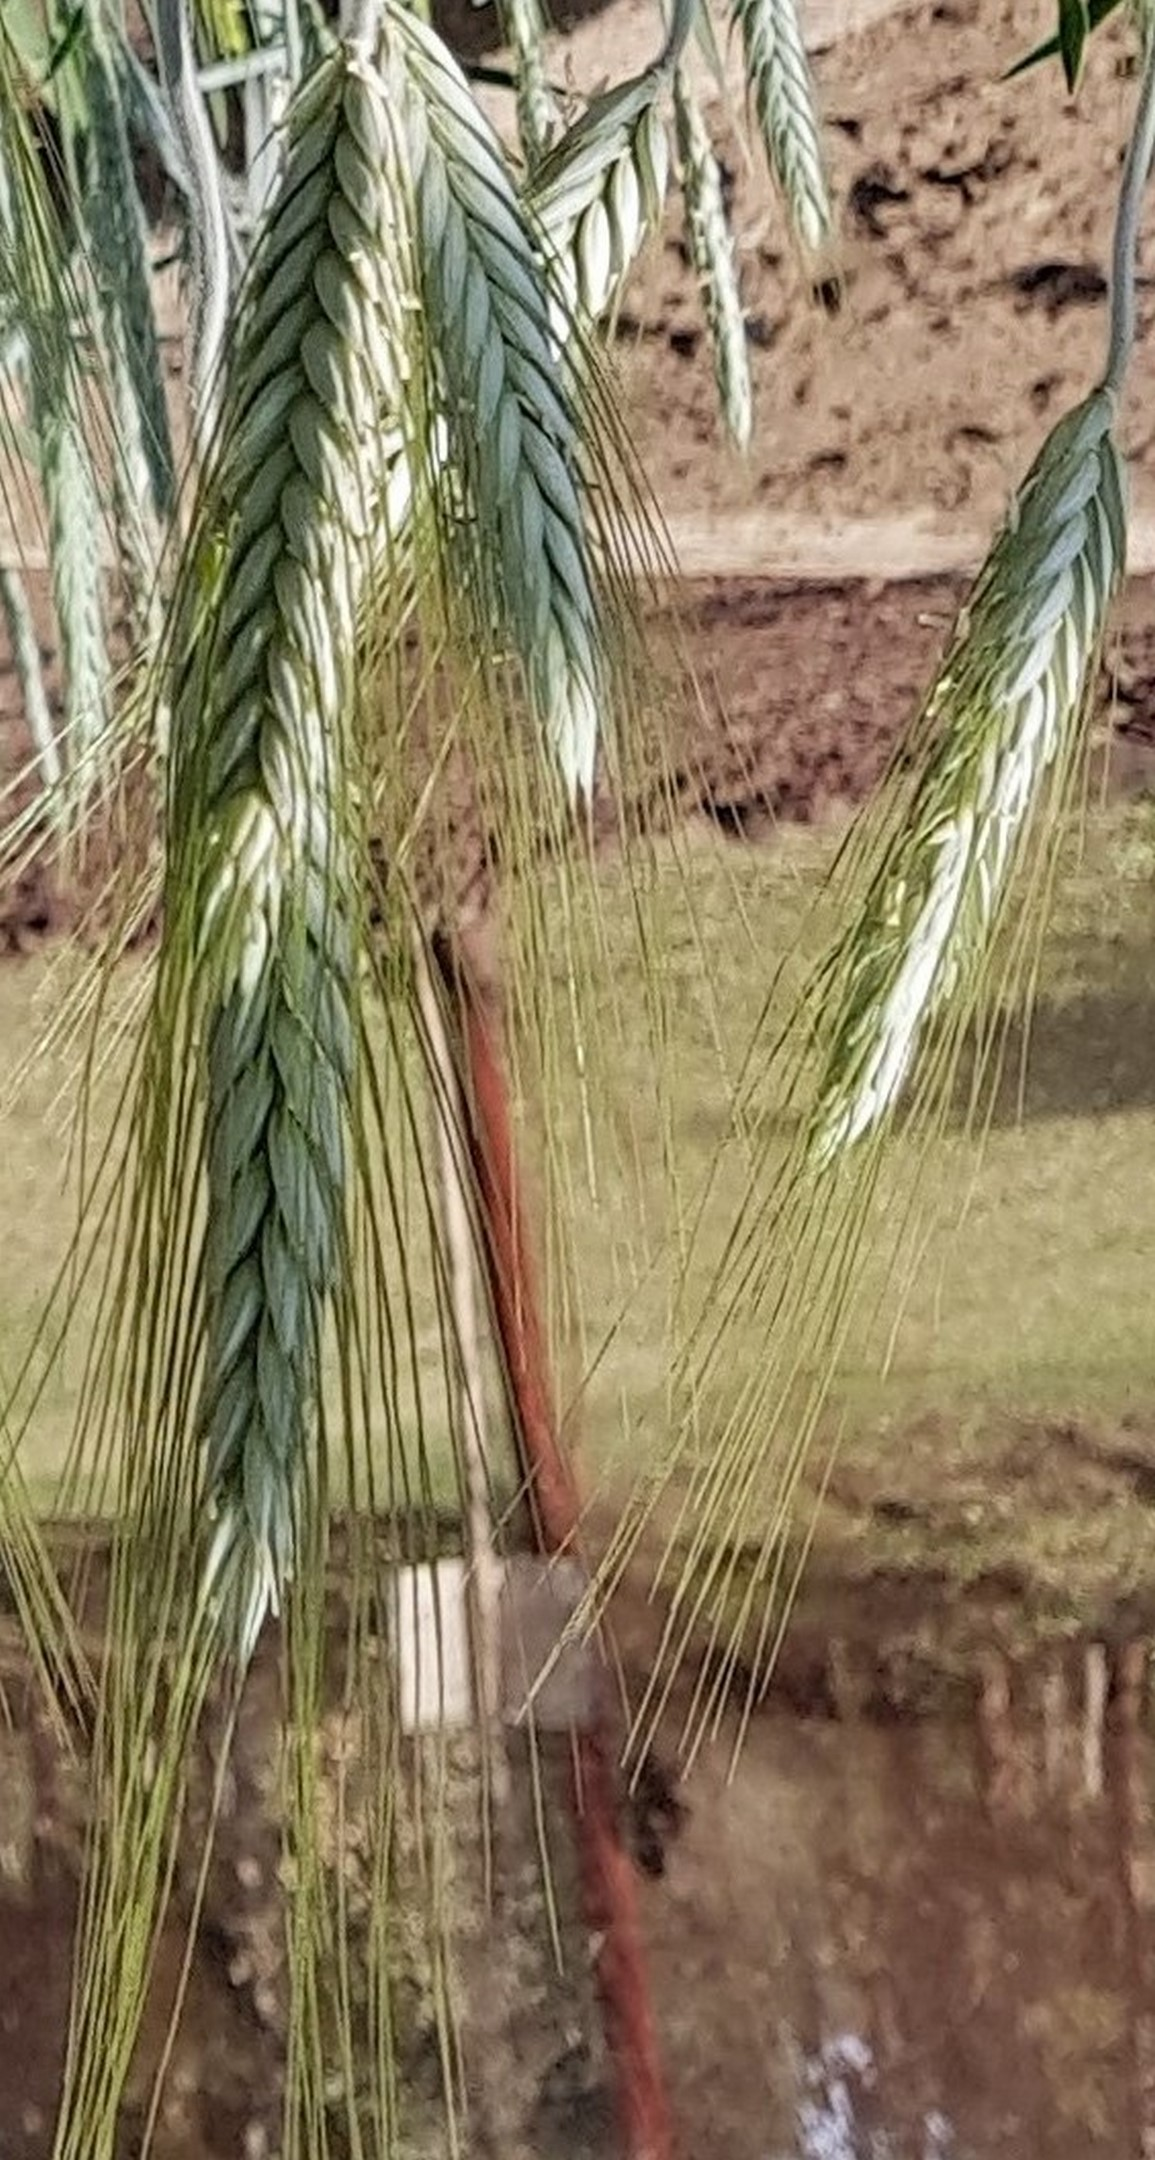Healthy Wheat: (785, 374, 1155, 1224), (406, 61, 688, 801), (169, 36, 383, 926)
